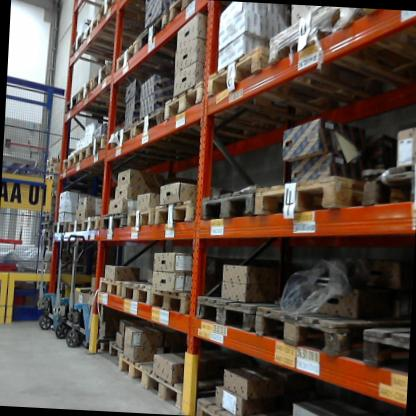pallet: (264, 4, 394, 112), (208, 43, 338, 119), (255, 300, 368, 358), (254, 173, 362, 225), (328, 8, 416, 65), (142, 363, 219, 413), (364, 316, 410, 382), (134, 107, 203, 148), (359, 165, 416, 214), (197, 387, 284, 416), (197, 292, 256, 333), (202, 185, 253, 227), (137, 11, 178, 62), (114, 40, 158, 75), (165, 82, 204, 119), (151, 283, 190, 316), (154, 196, 194, 225), (118, 352, 153, 382), (122, 276, 154, 307), (126, 204, 154, 230), (111, 125, 134, 149), (101, 274, 123, 296), (104, 211, 128, 230), (171, 1, 195, 19), (108, 342, 126, 360)
pallet_truck: (62, 234, 95, 352), (49, 234, 72, 340), (37, 236, 56, 331)
